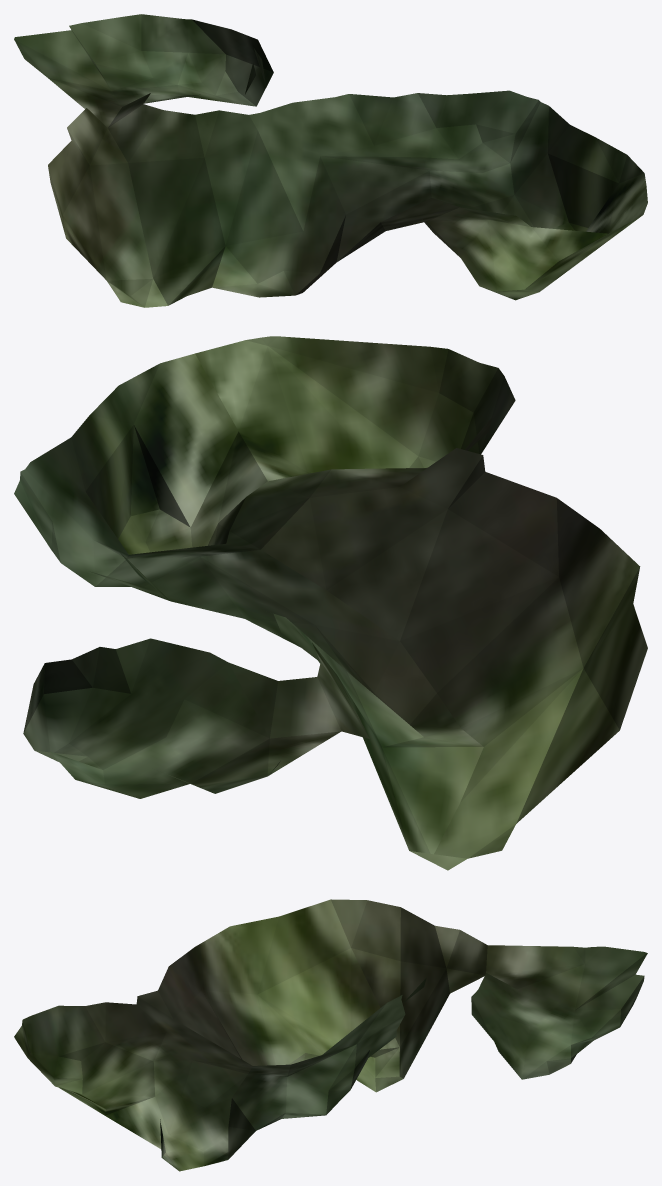
3 views of the same model, one above another, from view 1: azimuth 30°, elevation 25°; view 2: azimuth 150°, elevation 25°; view 3: azimuth 270°, elevation 25° (orthographic). The views are drawn at different scales.
Size of the model in its own units: 1.5 by 0.4859 by 2.
Materials: 1 (1 with a texture image).
